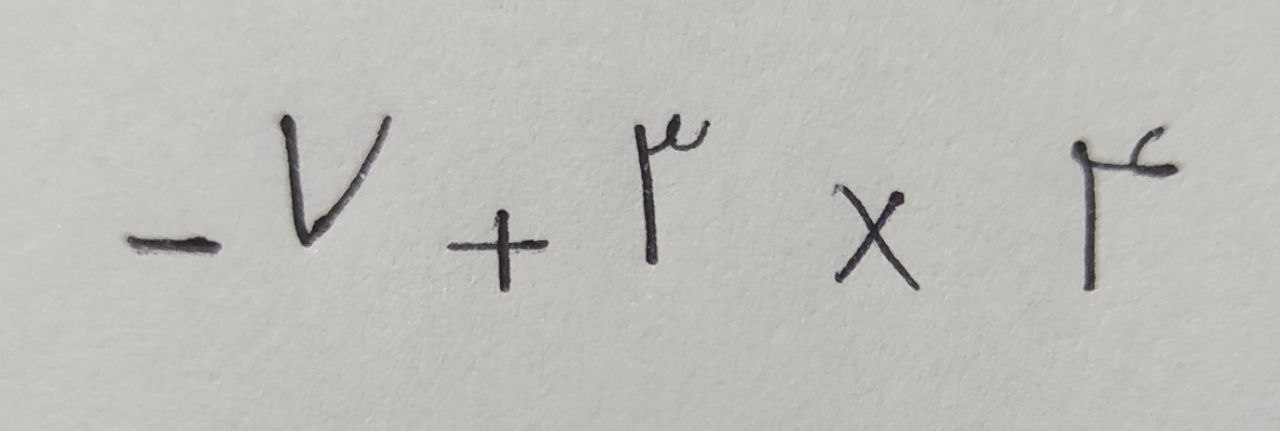character: (1070, 125, 1179, 293), (278, 112, 394, 248), (636, 114, 711, 266), (831, 184, 922, 293), (447, 209, 551, 295), (122, 236, 224, 257)
